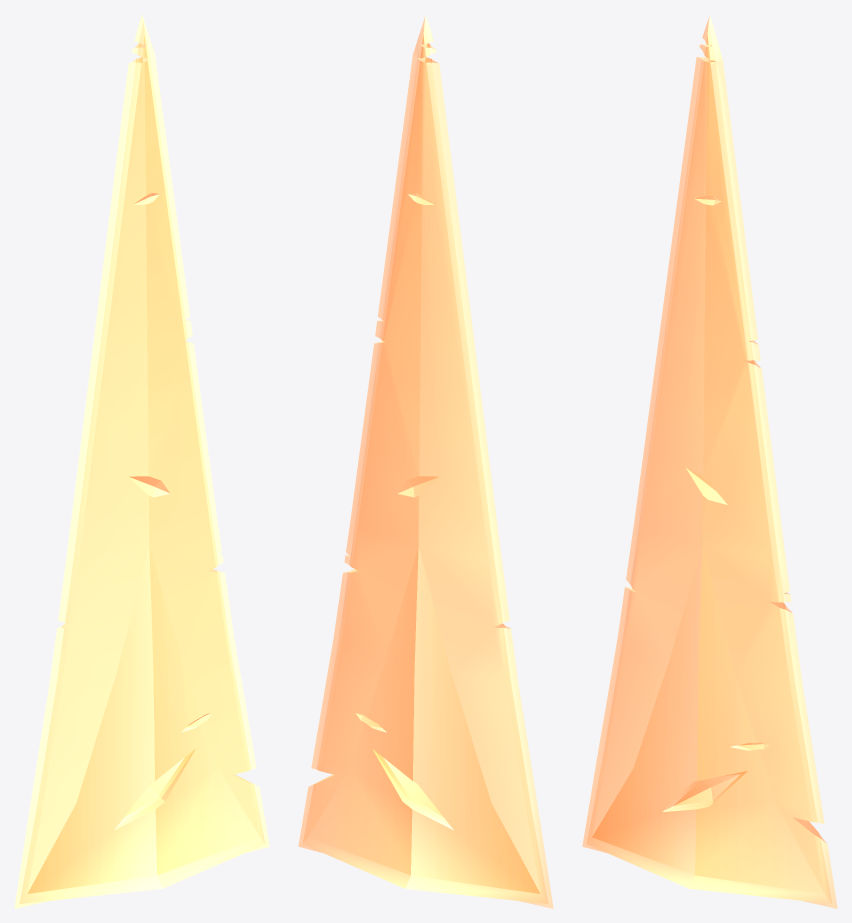
File: wood_blade_scratched_064.glb
The picture shows the model from 3 angles, left to right: view 1: azimuth 30°, elevation 25°; view 2: azimuth 150°, elevation 25°; view 3: azimuth 330°, elevation 25°; orthographic projection.
Parts seen in each view (by area): view 1: wood_blade_scratched.064; view 2: wood_blade_scratched.064; view 3: wood_blade_scratched.064.
Boxes of the visible parts, bbox=[...] form: wood_blade_scratched.064: bbox=[14, 15, 269, 908]; wood_blade_scratched.064: bbox=[298, 15, 553, 908]; wood_blade_scratched.064: bbox=[582, 15, 837, 908].
Bounding box in the file's own units: 3.52 × 11.43 × 0.9907.
1 material, 1 textured.
